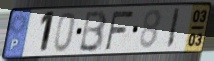0: (52, 11, 77, 54)
1: (38, 10, 56, 56)
8: (138, 8, 164, 51)
B: (77, 9, 109, 54)
F: (104, 10, 136, 52)
I: (165, 7, 182, 50)
